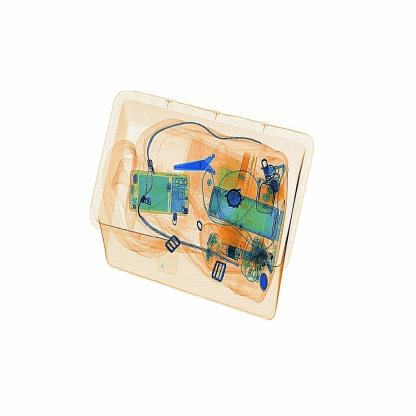gun: (168, 127, 243, 194)
